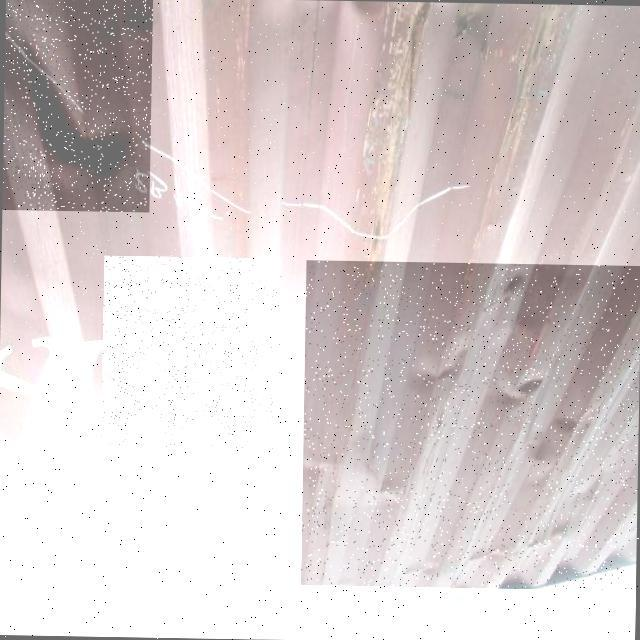Dent: (101, 256, 281, 449)
Minor-Dent: (300, 259, 640, 590), (1, 0, 152, 211)
